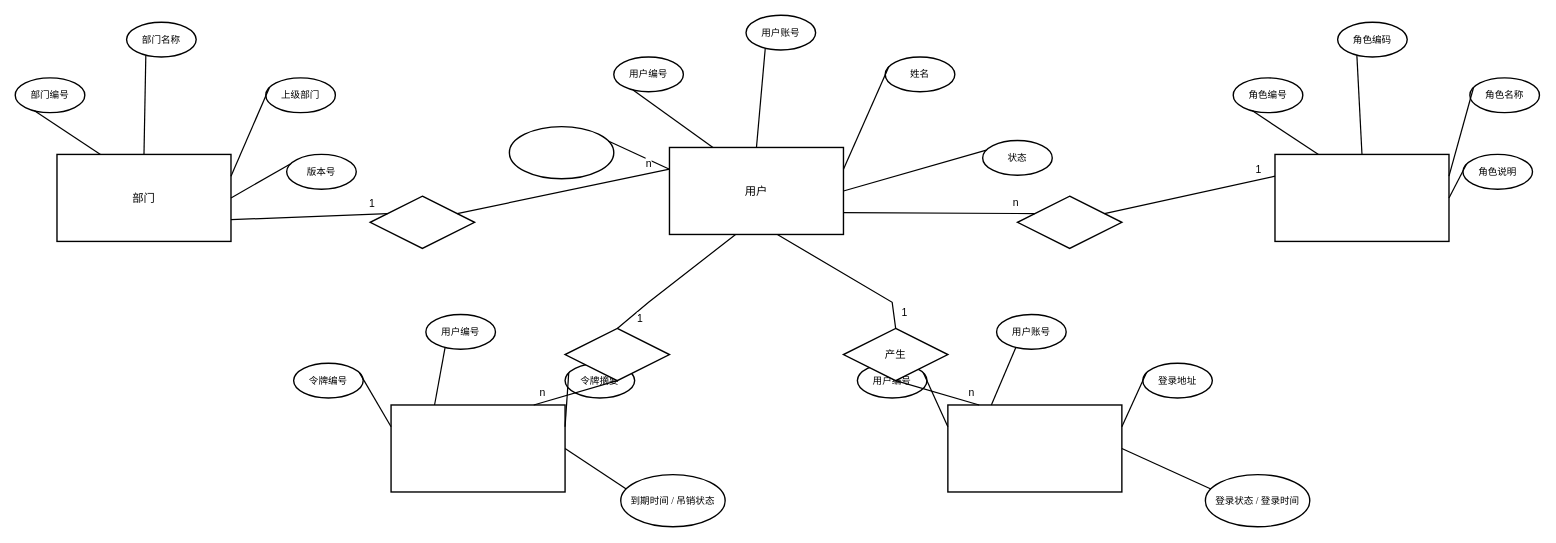
This 1556x543 diagram has some shape labels left out. Each missing label, with the centre of its shape:
刷新令牌: point 477,448
拥有: point 1069,222
登录日志: point 1034,448
签发: point 617,354
角色: point 1361,197
部门编号 / 角色编号: point 561,152
隶属: point 422,222
